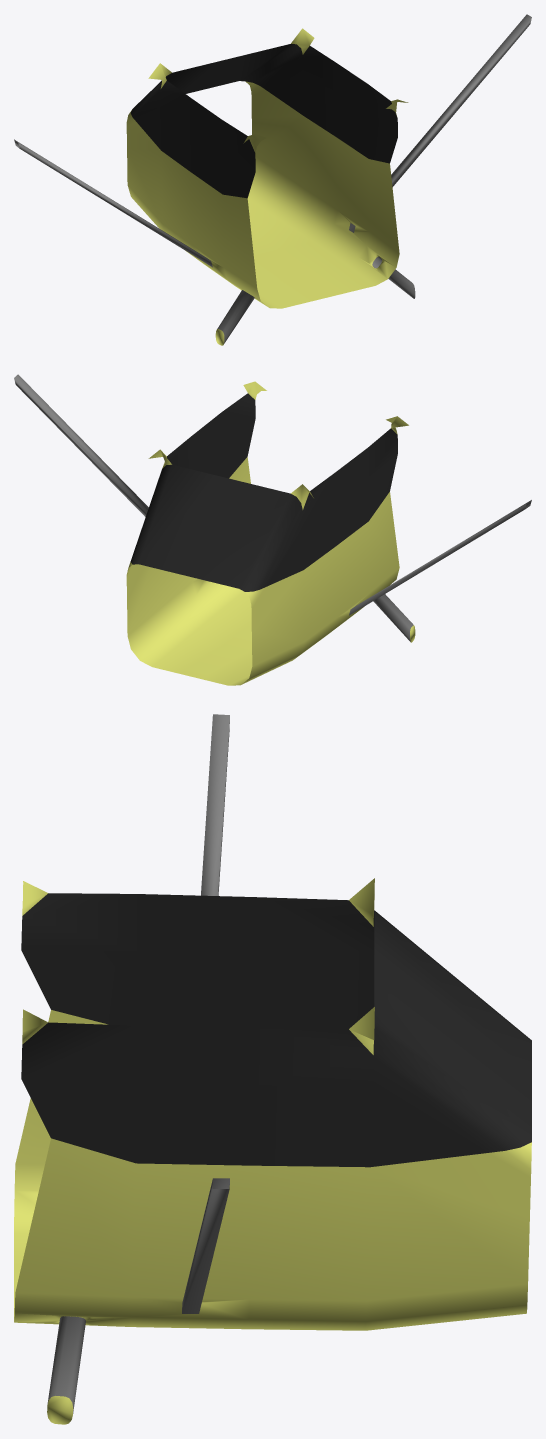
The model's file is cessnagodot.glb.
The picture shows the model from 3 angles, top to bottom: view 1: azimuth 30°, elevation 25°; view 2: azimuth 150°, elevation 25°; view 3: azimuth 270°, elevation 25°; orthographic projection. The views are drawn at different scales.
Visible parts, largest first — view 1: Fusalage; view 2: Fusalage; view 3: Fusalage.
Part boxes in pixels (bbox=[...]): Fusalage: bbox=[14, 14, 531, 345]; Fusalage: bbox=[14, 374, 531, 685]; Fusalage: bbox=[14, 714, 531, 1424].
Bounding box in the file's own units: 4.75 × 1.89 × 2.24.
